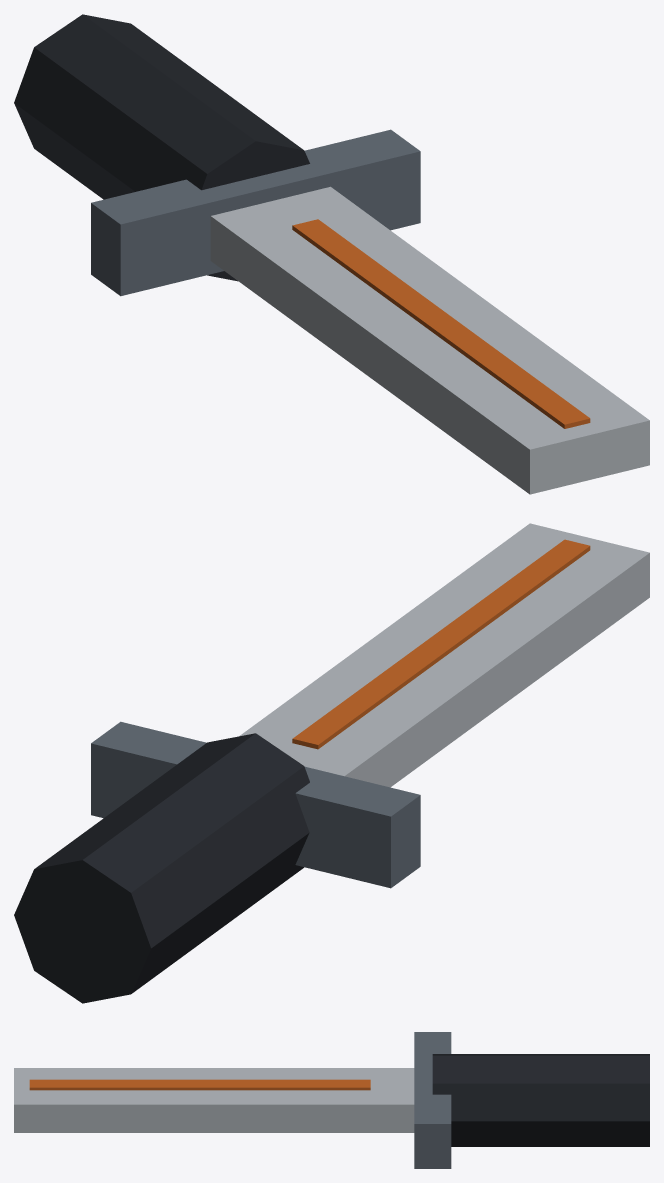
Rendered from vibro-dagger.glb.
3 views of the same model, one above another, from view 1: azimuth 30°, elevation 25°; view 2: azimuth 150°, elevation 25°; view 3: azimuth 270°, elevation 25° (orthographic). The views are drawn at different scales.
Visible parts, largest first — view 1: vibro-dagger; view 2: vibro-dagger; view 3: vibro-dagger.
Boxes of the visible parts, <box> form: vibro-dagger: <box>14,14,649,494</box>; vibro-dagger: <box>14,523,649,1003</box>; vibro-dagger: <box>14,1032,649,1168</box>.
Size of the model in its own units: 0.07 by 0.032 by 0.205.
